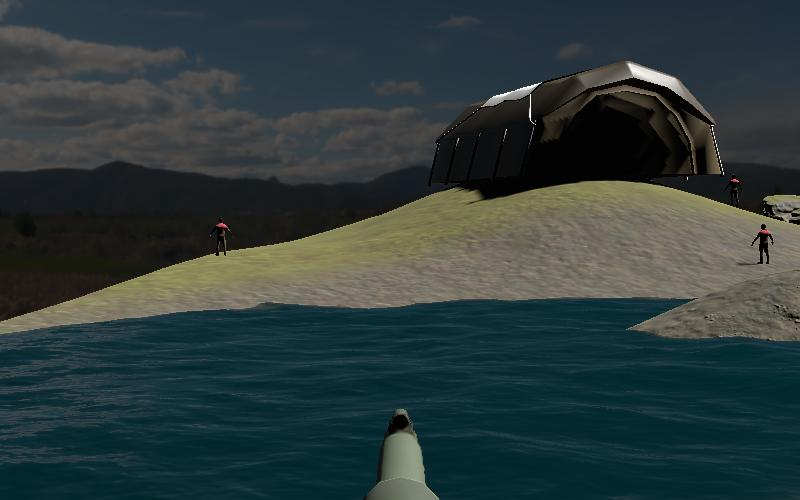Human: (749, 220, 777, 268), (207, 215, 234, 260), (722, 171, 745, 209)
